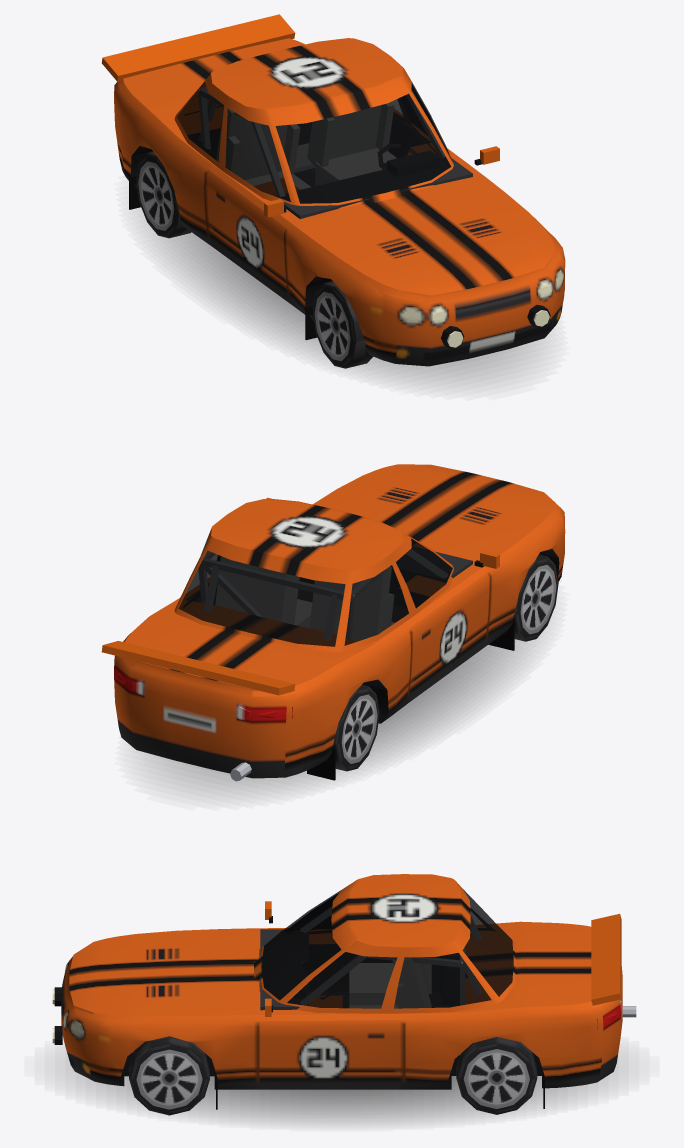
File: brasa.glb
3 renders of one model, top to bottom at view 1: azimuth 30°, elevation 25°; view 2: azimuth 150°, elevation 25°; view 3: azimuth 270°, elevation 25°, orthographic. The views are drawn at different scales.
Visible parts, largest first — view 1: Carroceria, Capo_malha, Interior, Porta_D_malha, Sombra, Tampa_malha, Roda_DD, Roda_TD, Porta_E_malha, Farol; view 2: Carroceria, Capo_malha, Interior, Sombra, Porta_D_malha, Tampa_malha, Roda_TD, Roda_DD; view 3: Carroceria, Porta_E_malha, Capo_malha, Interior, Sombra, Tampa_malha, Roda_DE, Roda_TE, Porta_D_malha.
Part boxes in pixels (x1,y1,x2,y2): Carroceria: (114,38,565,366); Capo_malha: (306,184,560,302); Interior: (186,87,472,218); Porta_D_malha: (205,95,295,294); Sombra: (143,214,539,385); Tampa_malha: (101,14,304,105); Roda_DD: (312,281,373,368); Roda_TD: (136,151,191,238); Porta_E_malha: (401,68,499,166); Farol: (402,272,563,323); Carroceria: (114,464,565,781); Capo_malha: (318,464,560,555); Interior: (183,546,472,640); Sombra: (144,637,535,795); Porta_D_malha: (390,532,499,695); Tampa_malha: (101,620,329,696); Roda_TD: (333,684,379,771); Roda_DD: (513,554,558,641); Carroceria: (52,874,636,1109); Porta_E_malha: (257,940,403,1081); Capo_malha: (75,931,241,1023); Interior: (131,907,495,1054); Sombra: (65,1053,618,1123); Tampa_malha: (529,913,621,1009); Roda_DE: (129,1036,209,1115); Roda_TE: (456,1037,537,1114); Porta_D_malha: (265,894,337,931).
Size of the model in its own units: 2.36 by 1.32 by 4.85.
Materials: 14 (5 with a texture image).
